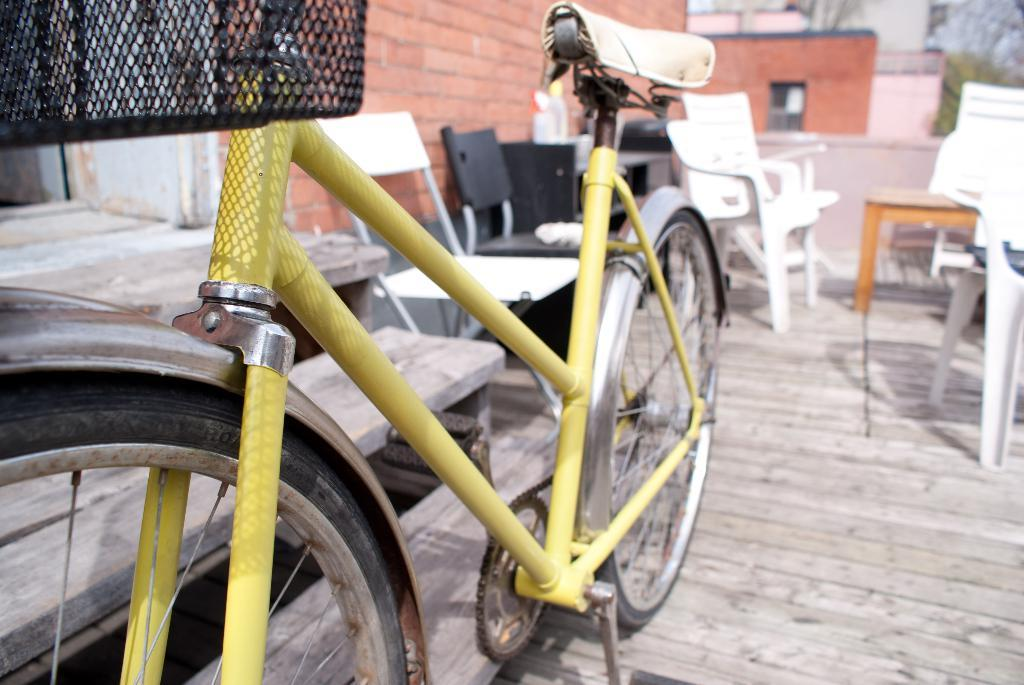Chair: (314, 109, 588, 428), (442, 125, 616, 336), (675, 88, 838, 297), (934, 122, 1023, 472), (919, 84, 1023, 312)
